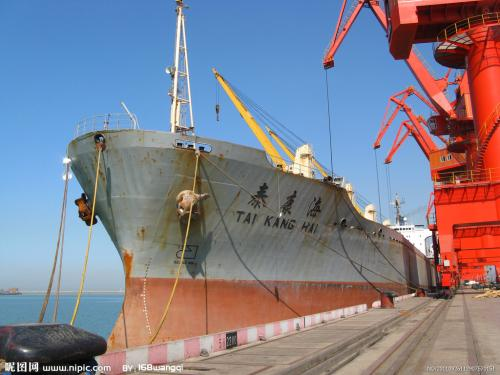Cargoship: (47, 1, 442, 355)
